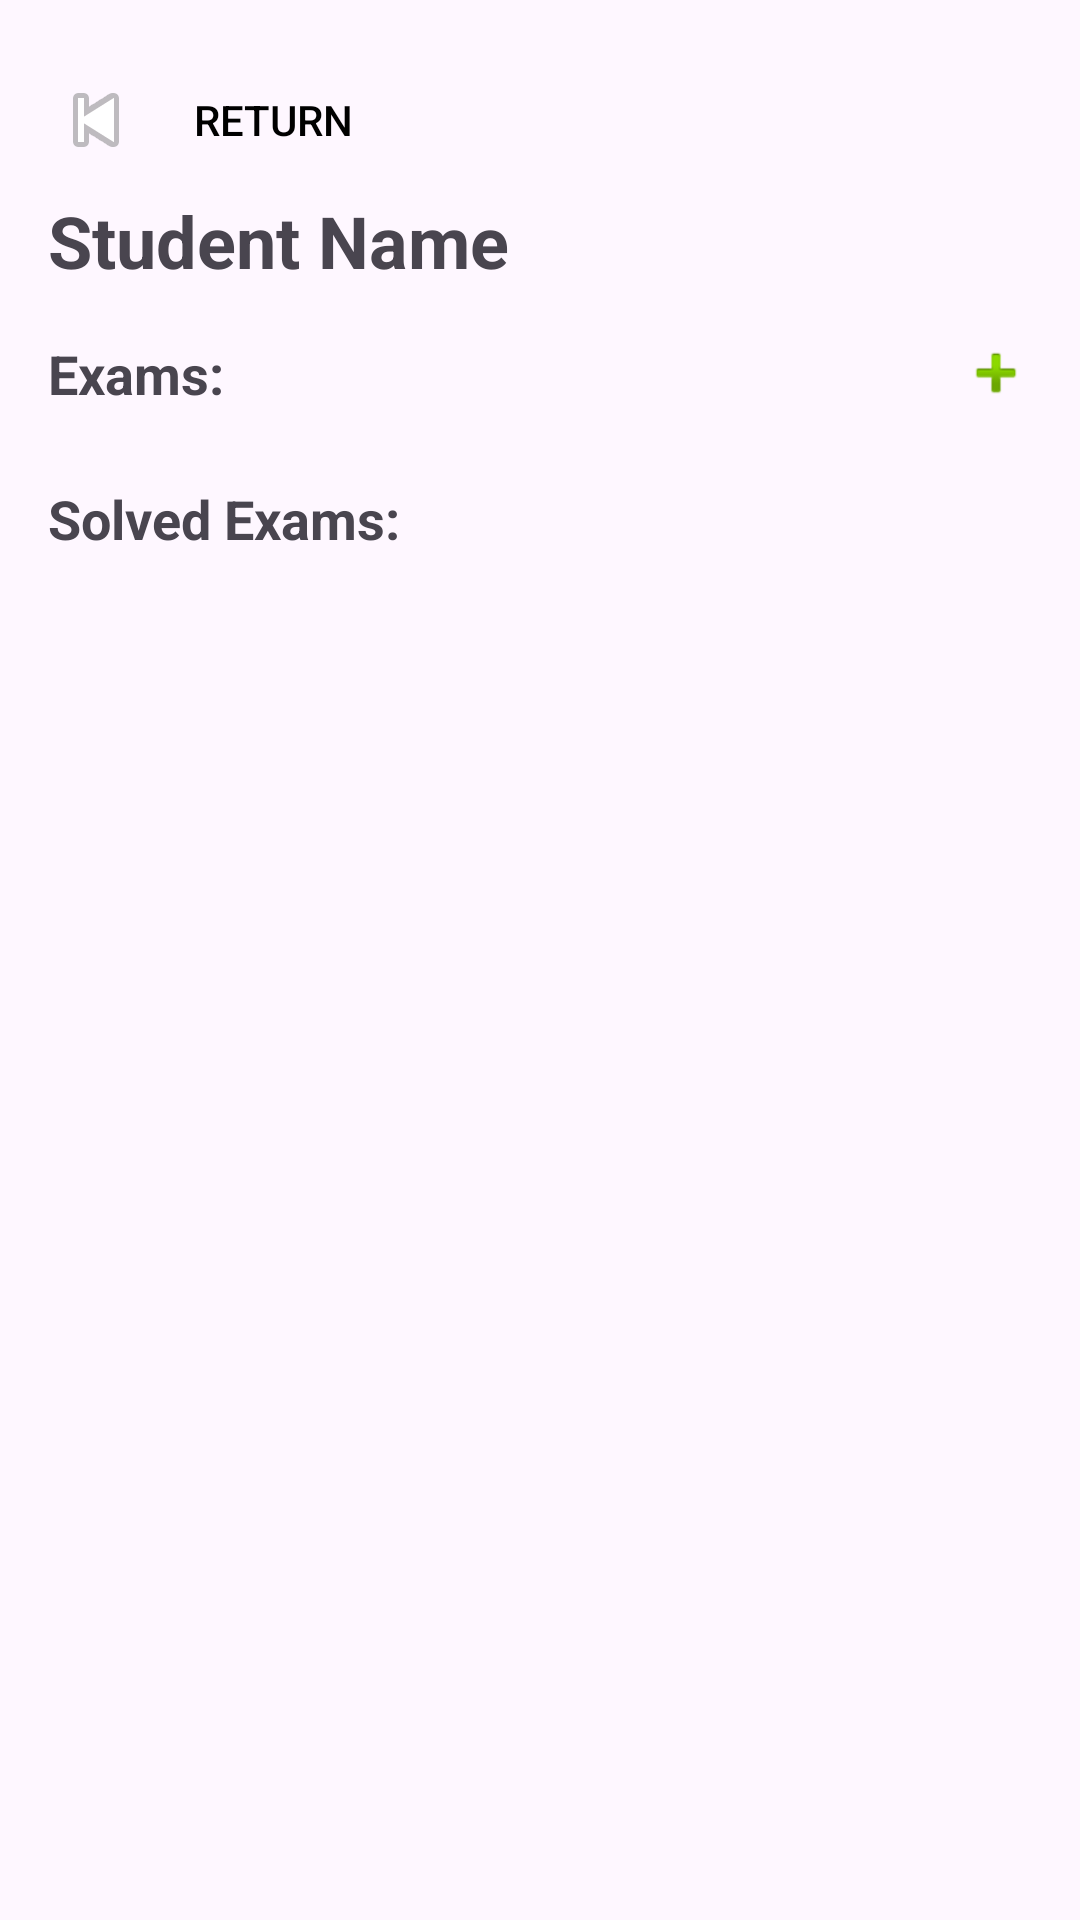

Screen size 1080w x 1920h. Icon name, then its center in pixels as (x,y):
Add Exam: (996,373)
